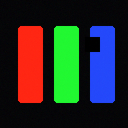1 square: (85, 37, 99, 51)
